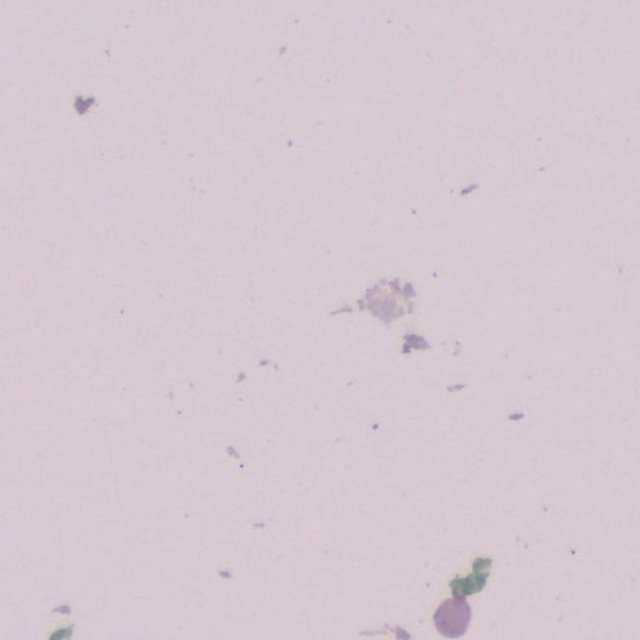intermediate: (434, 592, 471, 638)
non_viable: (464, 572, 486, 594), (471, 557, 492, 579), (451, 576, 473, 596)
